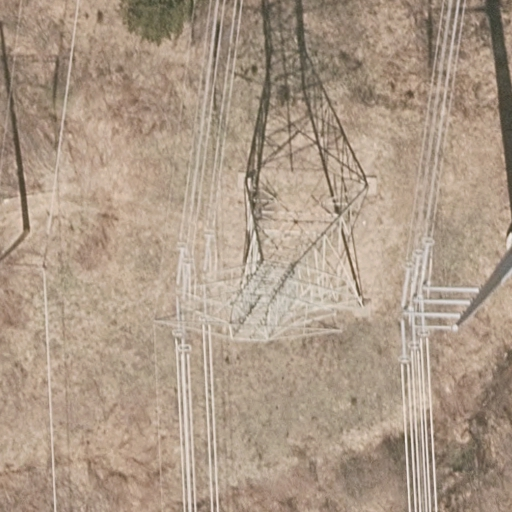TT: (154, 176, 376, 344), (399, 227, 512, 366)
